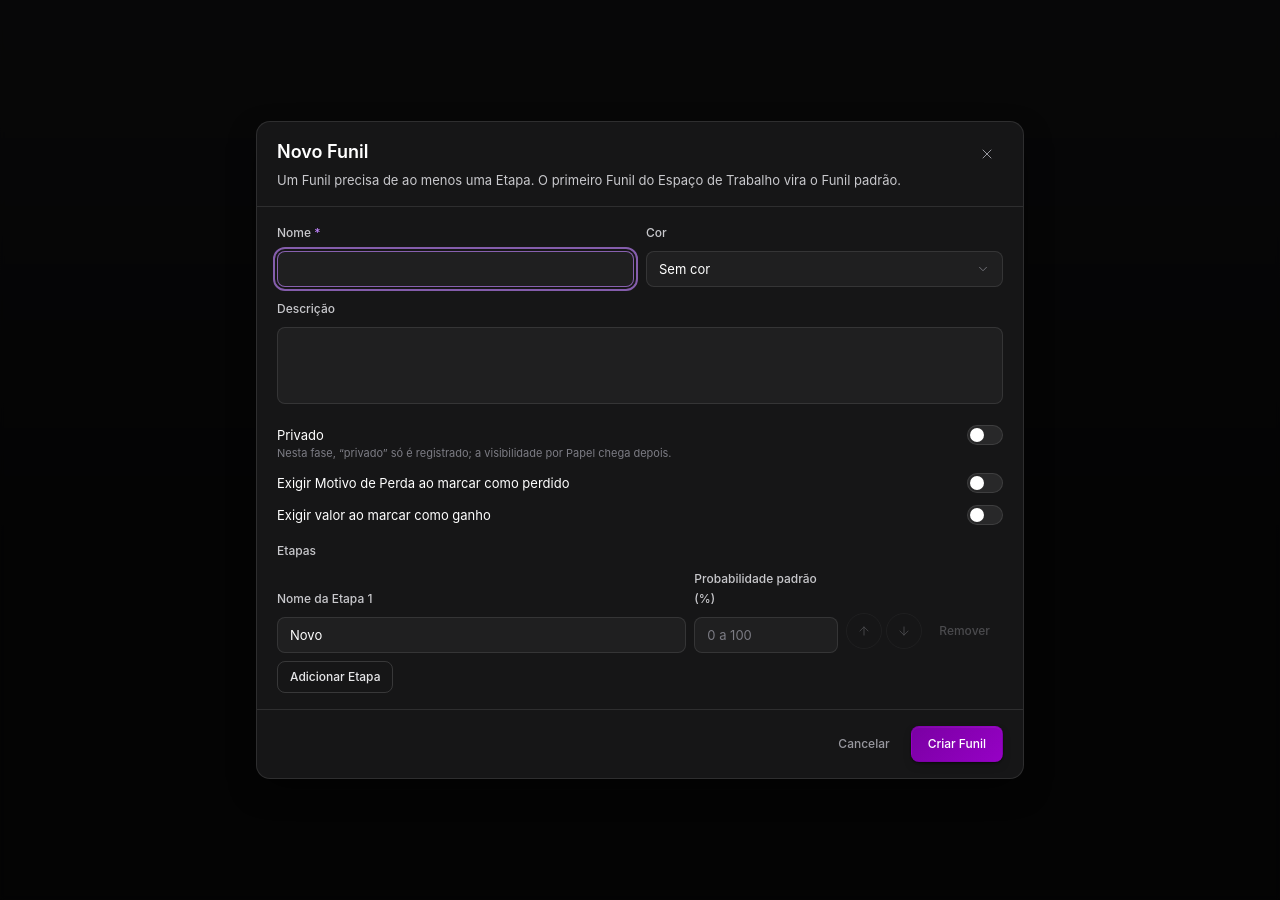
DialogoNovoFunil › 409 FUNIL_NOME_EM_USO aparece no campo Nome e o diálogo continua aberto com os campos
Type "Vendas" into the field labelled "Nome *".
click(456, 269); type("Vendas")  # box x1=277 y1=251 x2=634 y2=287
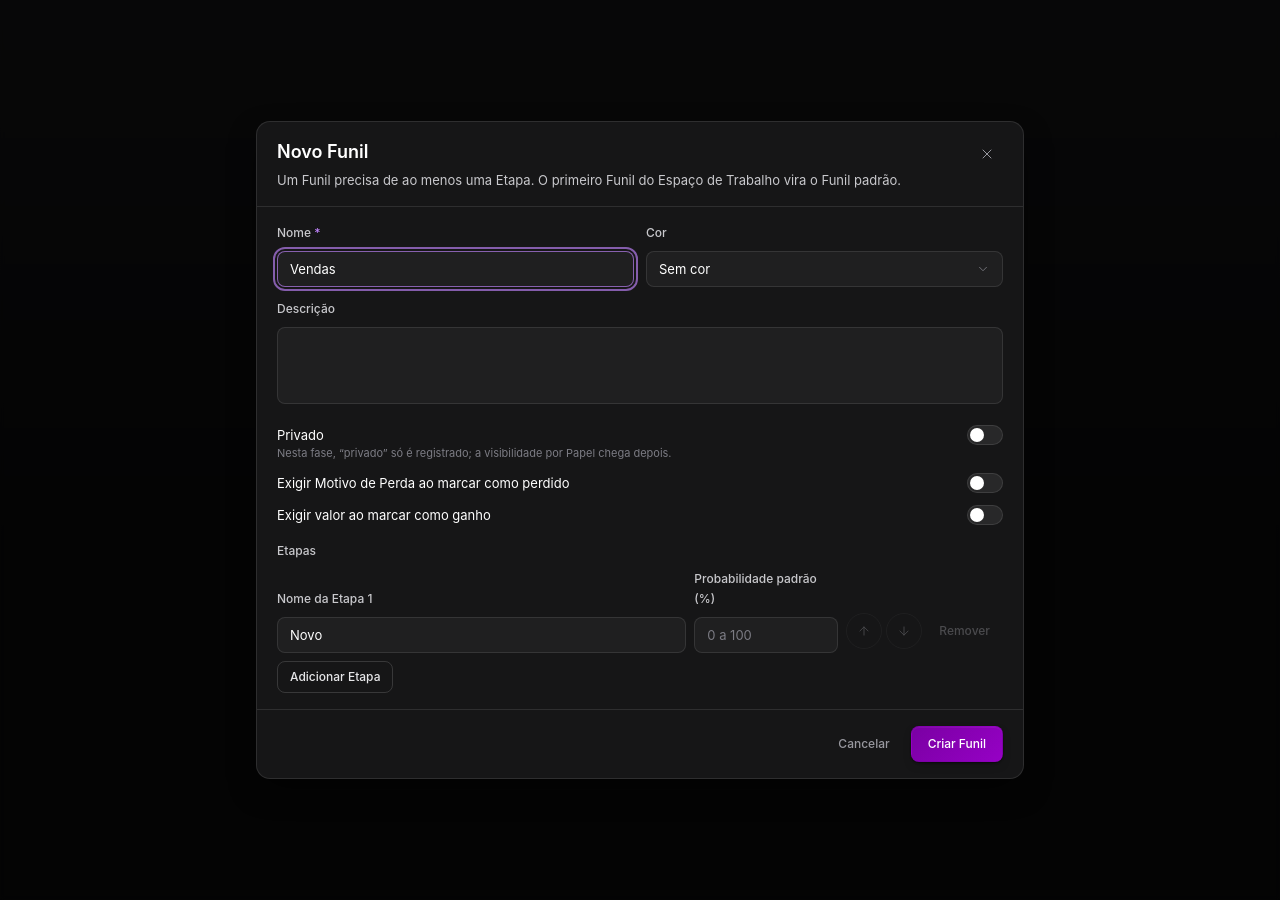
Click the button "Criar Funil".
click(957, 744)  # box x1=911 y1=726 x2=1003 y2=762
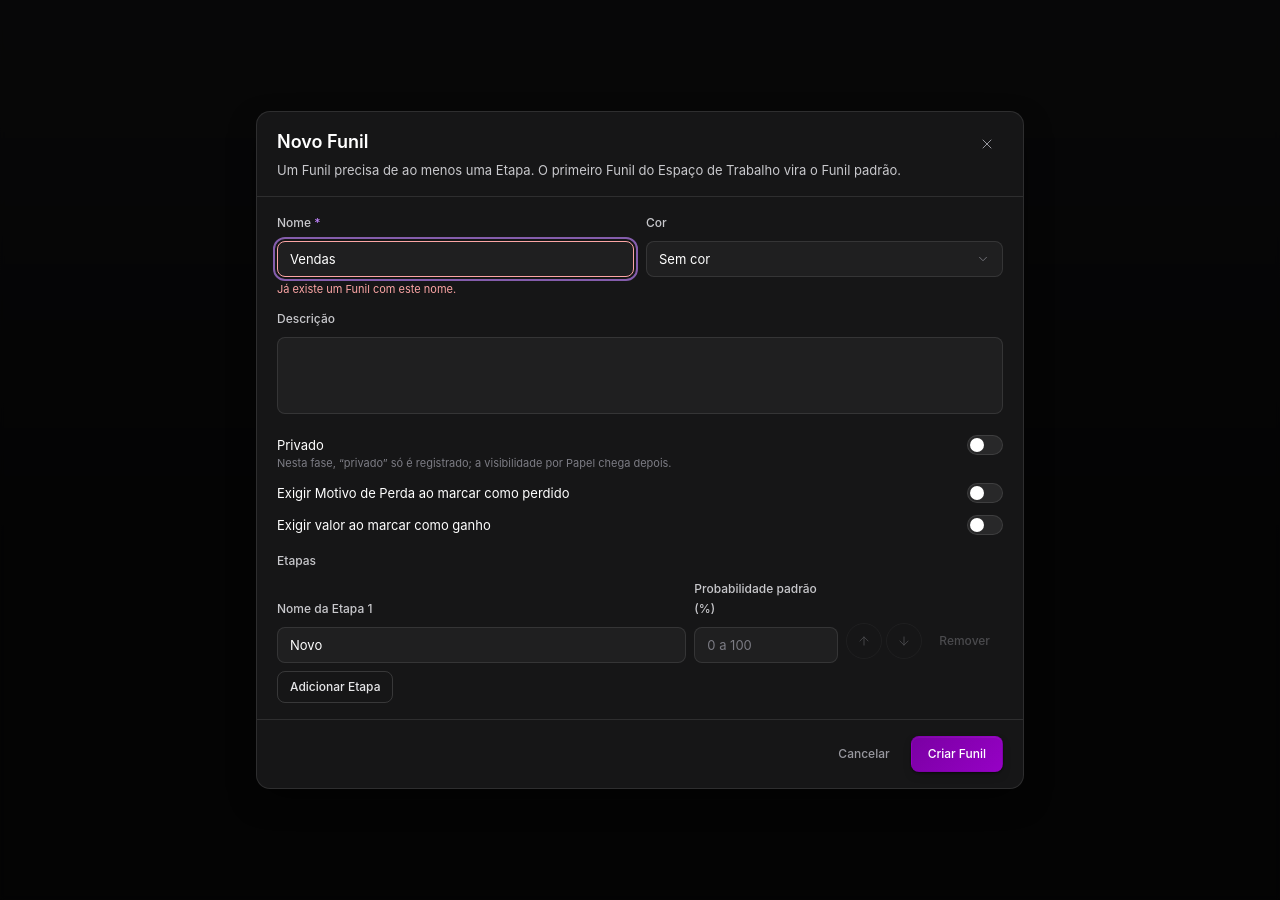
Expected: the text "Já existe um Funil com este nome." is shown, x1=277 y1=282 x2=456 y2=296
